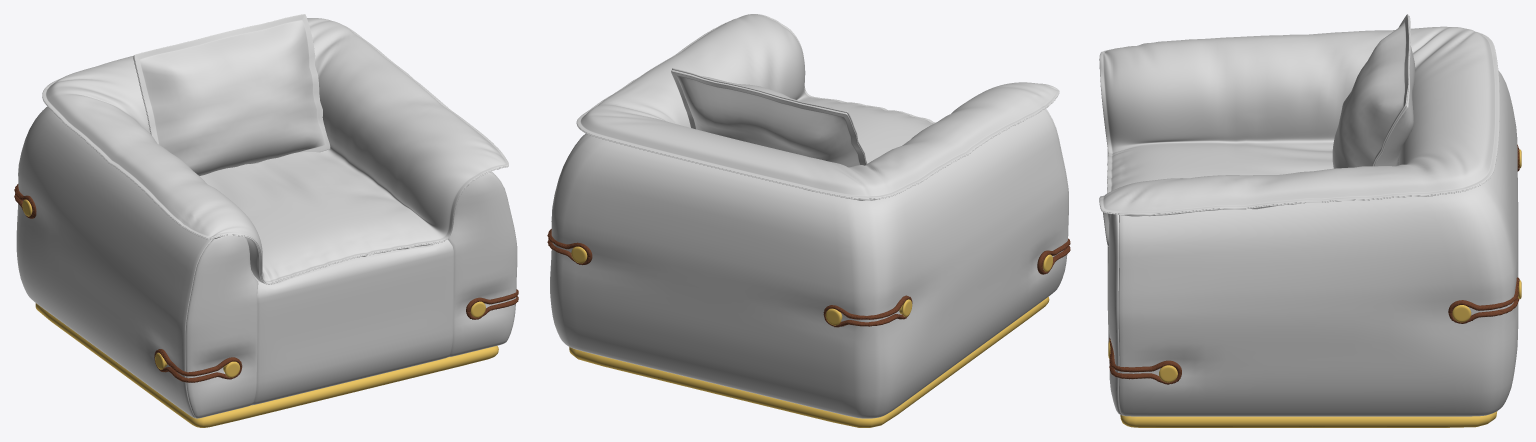
File: SLN_GRAND_THEORY_1_1STR.glb
The picture shows the model from 3 angles, left to right: view 1: azimuth 30°, elevation 25°; view 2: azimuth 150°, elevation 25°; view 3: azimuth 270°, elevation 25°; orthographic projection. The views are drawn at different scales.
Parts seen in each view (by area): view 1: GRAND THEORY 1_1STR; view 2: GRAND THEORY 1_1STR; view 3: GRAND THEORY 1_1STR.
Boxes of the visible parts, x1,y1,x2,y2 form: GRAND THEORY 1_1STR: (14,14,518,427); GRAND THEORY 1_1STR: (547,14,1070,427); GRAND THEORY 1_1STR: (1099,14,1521,427).
Size of the model in its own units: 1.12 by 0.84 by 1.11.
